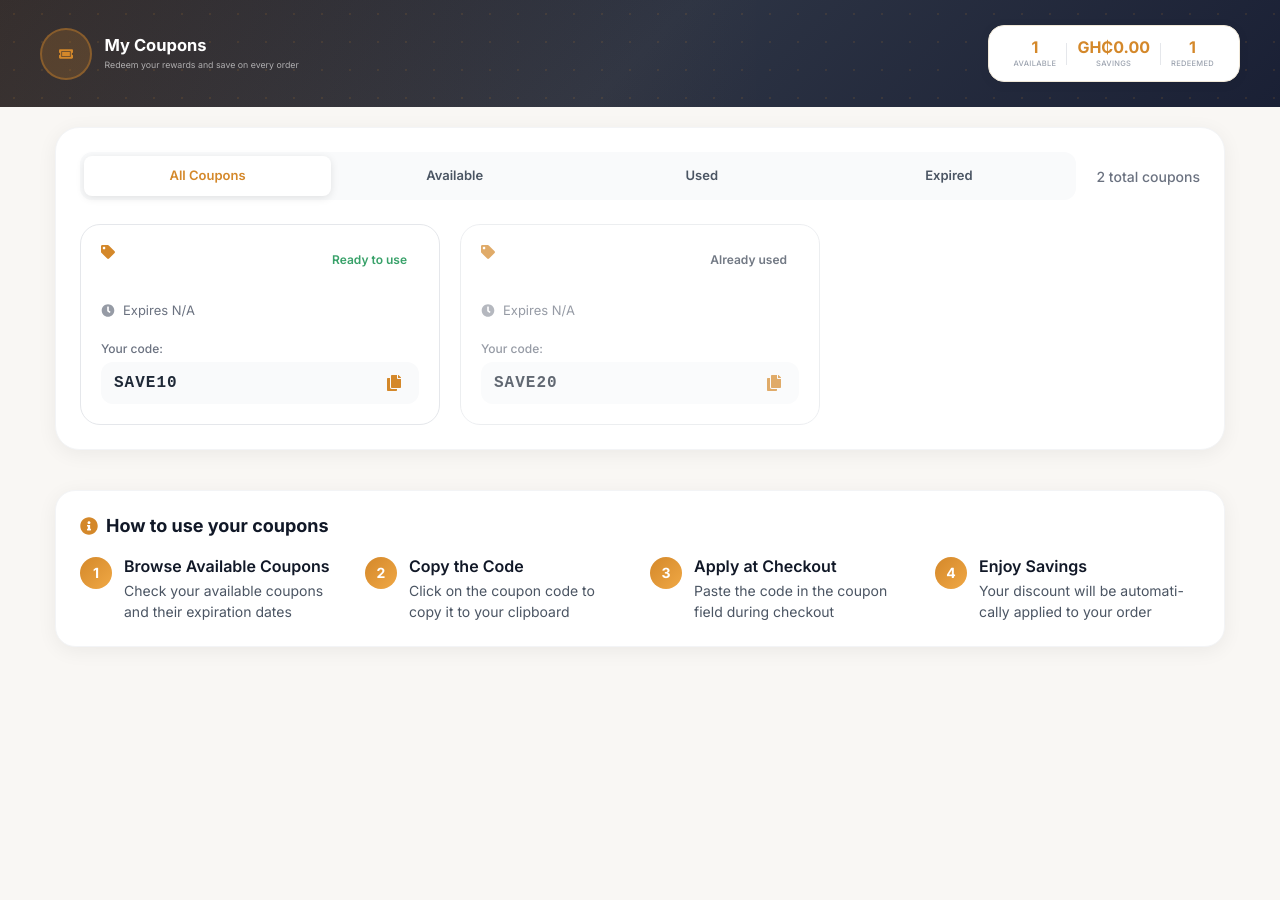
Test case: CouponsPage › handles filtering by status
expect the text "SAVE10" is shown: met, box top-left (114, 374), bottom-right (178, 392)
expect the text "SAVE20" is shown: met, box top-left (494, 374), bottom-right (558, 392)
Note: Change filter to "used" - component uses filter tabs (buttons), not a combobox
Click the button "Used" at (702,176), box top-left (578, 156), bottom-right (825, 196)
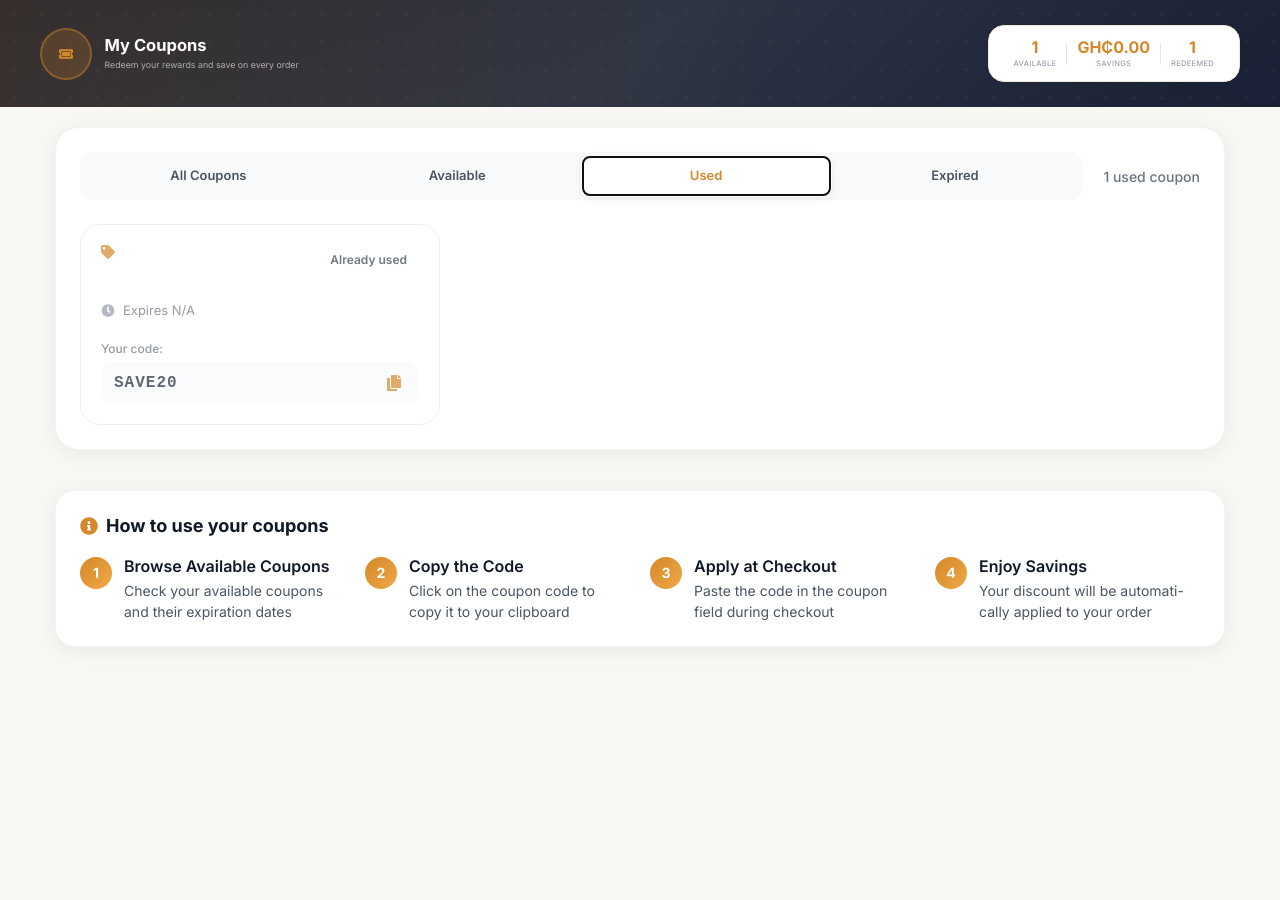
expect the text "SAVE10" is gone: met
expect the text "SAVE20" is shown: met, box top-left (114, 374), bottom-right (178, 392)
